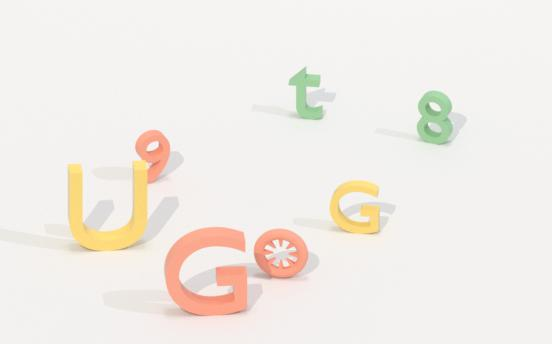8: (411, 90, 456, 148)
9: (134, 129, 176, 182)
G-hoa: (160, 225, 252, 320), (326, 179, 385, 236)
t: (285, 64, 332, 122)
tron: (254, 227, 311, 281)
u: (65, 159, 149, 256)
